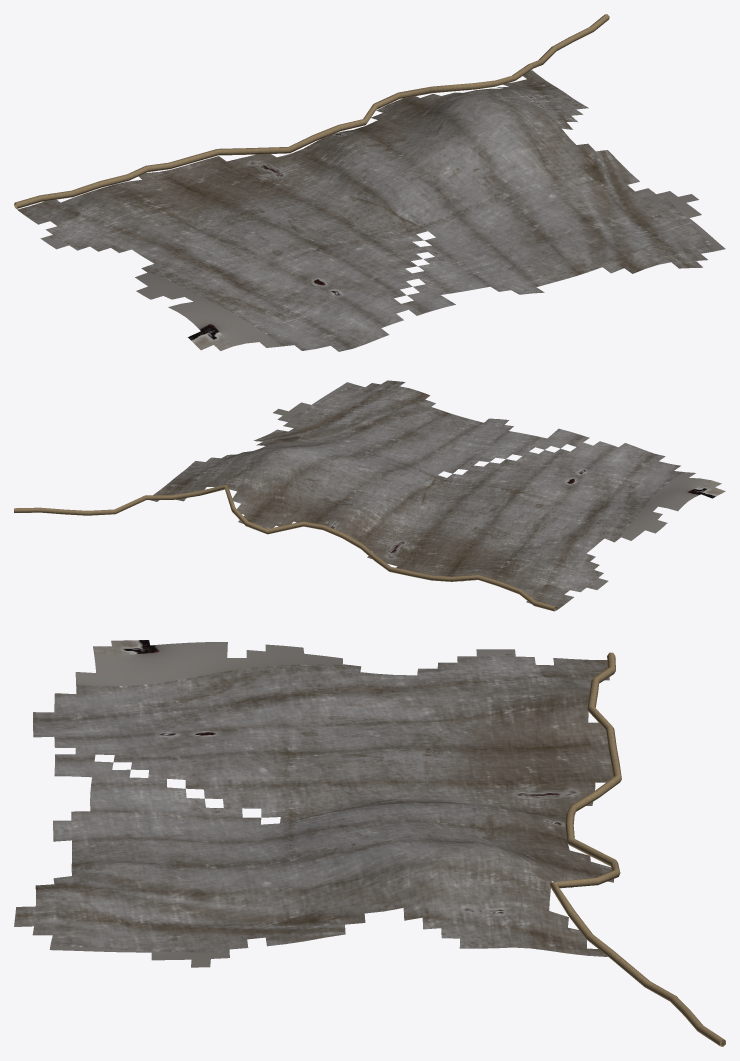
File: torn_sail.glb
3 views of the same model, one above another, from view 1: azimuth 30°, elevation 25°; view 2: azimuth 150°, elevation 25°; view 3: azimuth 270°, elevation 25° (orthographic). The views are drawn at different scales.
Visible parts, largest first — view 1: torn_sail; view 2: torn_sail; view 3: torn_sail.
Boxes of the visible parts, x1,y1,x2,y2 form: torn_sail: (14,14,725,351); torn_sail: (14,380,725,611); torn_sail: (14,640,725,1046).
Size of the model in its own units: 6.75 by 0.4743 by 5.1.
Materials: 2 (2 with a texture image).
